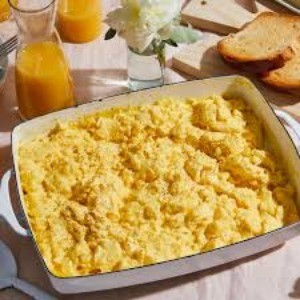egg_brain food: (83, 121, 219, 227)
